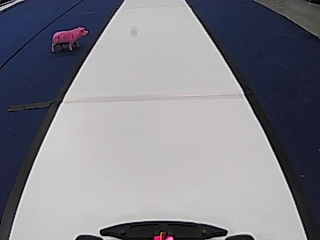pig: (50, 24, 88, 52)
